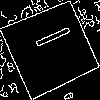I: (25, 23, 72, 55)
